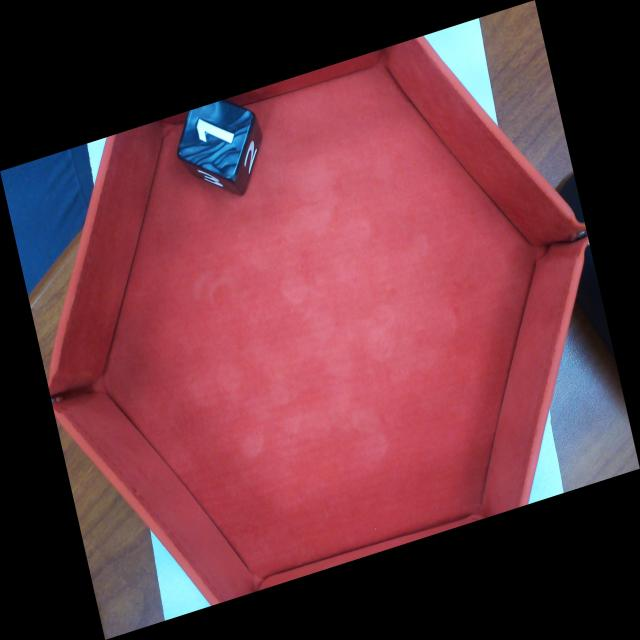dice: (173, 87, 258, 184)
